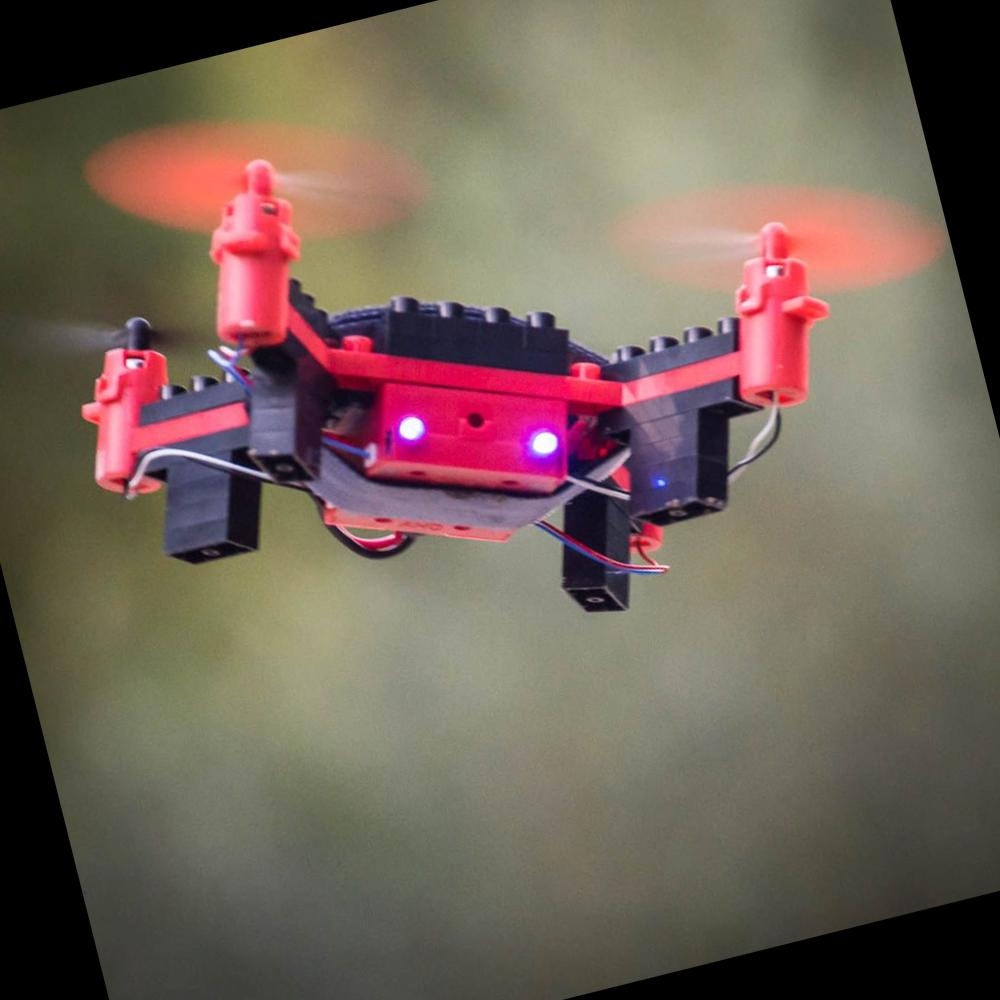drone: (0, 0, 940, 656)
